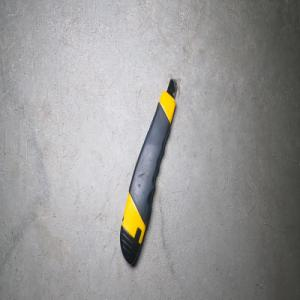Cutter: (119, 77, 178, 265)
